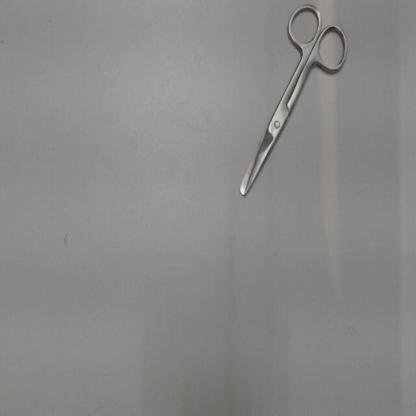Dressing Scissors: (230, 3, 358, 216)
